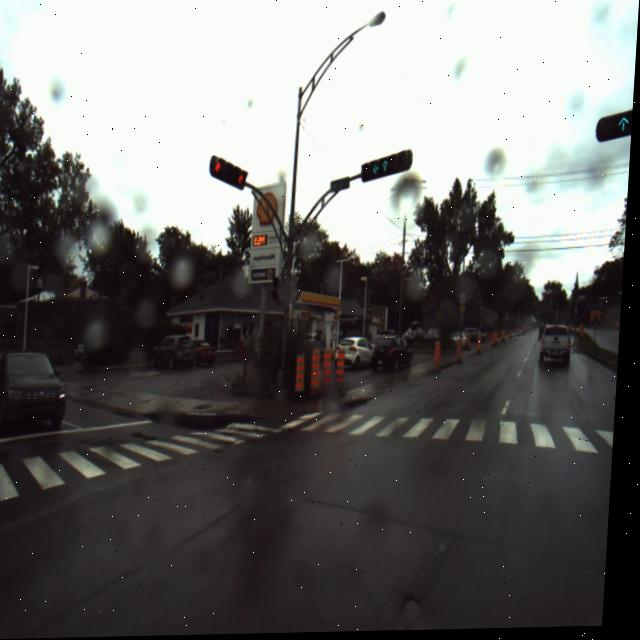car: (0, 349, 73, 429), (153, 334, 200, 372), (374, 339, 419, 377), (544, 325, 576, 371), (339, 339, 377, 373), (214, 160, 251, 191), (198, 342, 223, 368), (469, 328, 492, 345), (0, 346, 2, 406)
trafficLight-Green: (371, 157, 395, 184), (614, 112, 634, 141)
